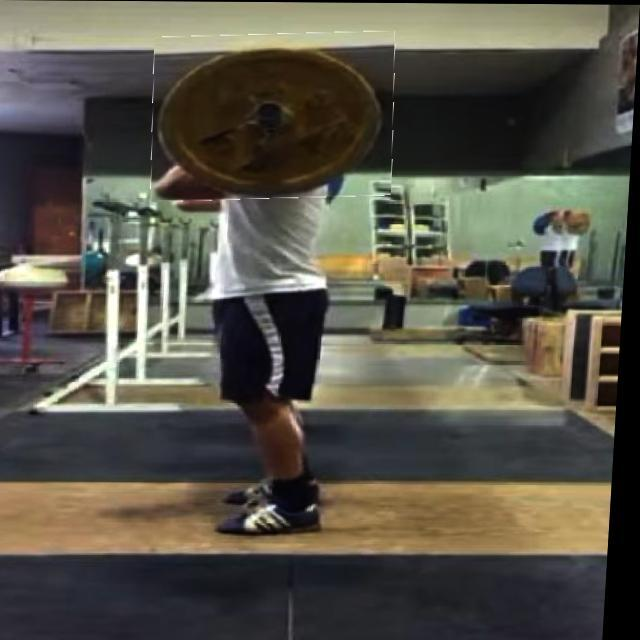barbell: (151, 32, 401, 201)
